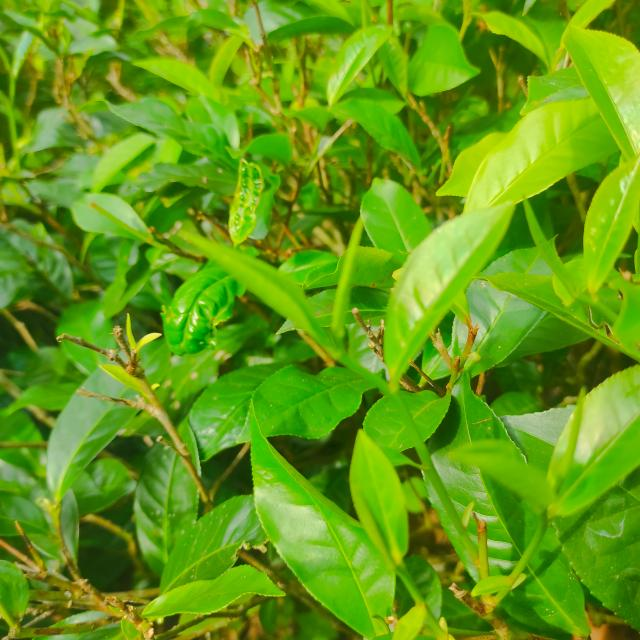unopened_leaf: (328, 206, 379, 344), (540, 380, 592, 495), (348, 487, 400, 571)
